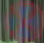No Stopping: (2, 1, 41, 42)
